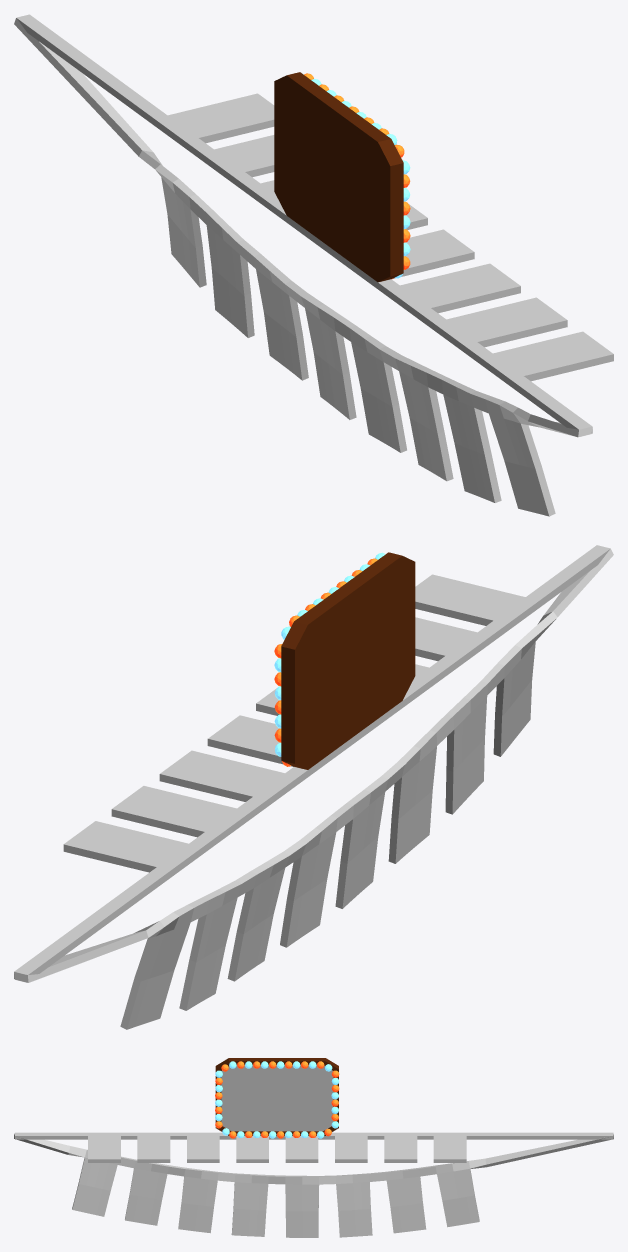
The model's file is Unwrapped_Flag.fbx.
3 renders of one model, top to bottom at view 1: azimuth 30°, elevation 25°; view 2: azimuth 150°, elevation 25°; view 3: azimuth 270°, elevation 25°, orthographic. The views are drawn at different scales.
Visible parts, largest first — view 1: Plane.002, Plane, Board; view 2: Plane.002, Plane, Board; view 3: Plane.002, Plane, Board.
Boxes of the visible parts, x1=… form: Plane.002: x1=14, y1=18, x2=592, y2=516; Plane: x1=16, y1=14, x2=613, y2=433; Board: x1=274, y1=72, x2=410, y2=282; Plane.002: x1=14, y1=549, x2=613, y2=1029; Plane: x1=14, y1=545, x2=610, y2=978; Board: x1=274, y1=552, x2=415, y2=769; Plane.002: x1=14, y1=1133, x2=613, y2=1237; Plane: x1=15, y1=1132, x2=612, y2=1162; Board: x1=215, y1=1058, x2=339, y2=1138.
Size of the model in its own units: 158 by 463 by 1459.
